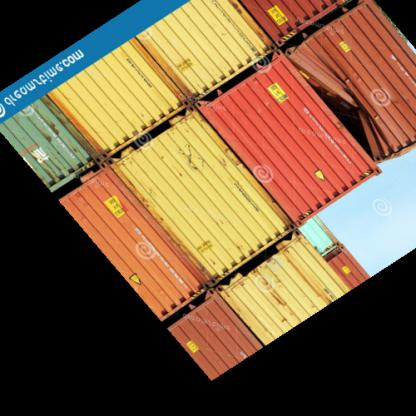Damage: (296, 65, 385, 162), (252, 263, 289, 326), (41, 117, 78, 168), (170, 136, 210, 179)
